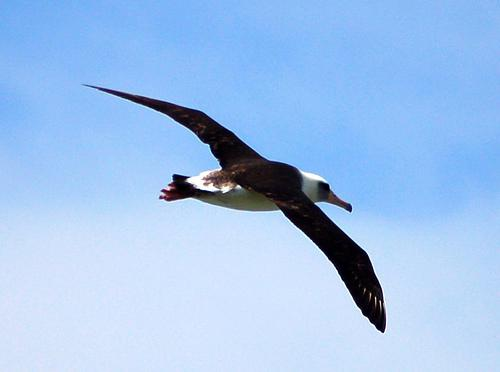002.Laysan_Albatross: (80, 81, 388, 332)
